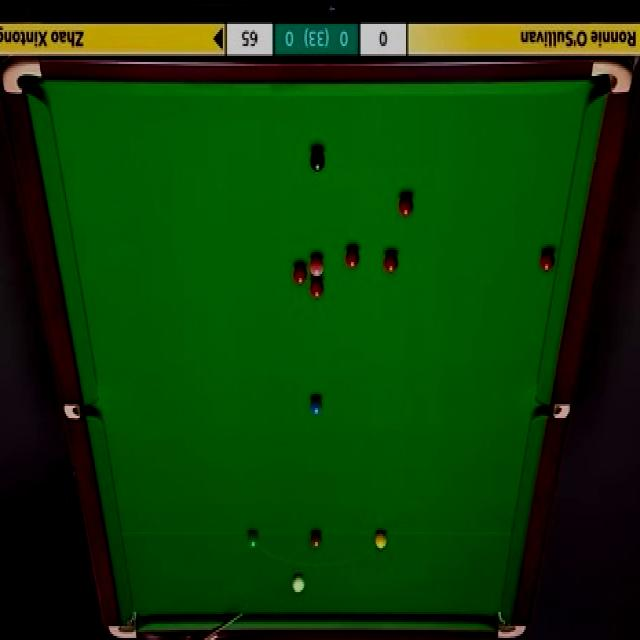black-ball: (362, 98, 378, 114)
blue-ball: (311, 396, 324, 417)
brown-ball: (311, 531, 322, 550)
green-ball: (246, 531, 262, 551)
pink-ball: (302, 260, 320, 282)
red-ball: (352, 195, 370, 222), (415, 168, 433, 194), (293, 123, 310, 149), (431, 107, 448, 132), (325, 206, 340, 234), (322, 112, 338, 138), (192, 268, 208, 294), (317, 224, 334, 248), (518, 226, 535, 248), (264, 230, 278, 254), (258, 128, 274, 149), (220, 268, 236, 288), (331, 219, 344, 242)
white-ball: (293, 577, 305, 593)
yellow-ball: (374, 530, 390, 550)
